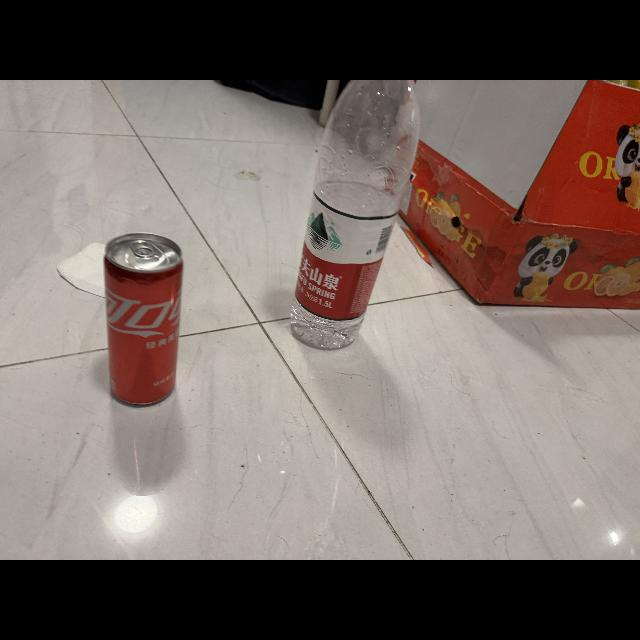Cola: (100, 227, 190, 416)
